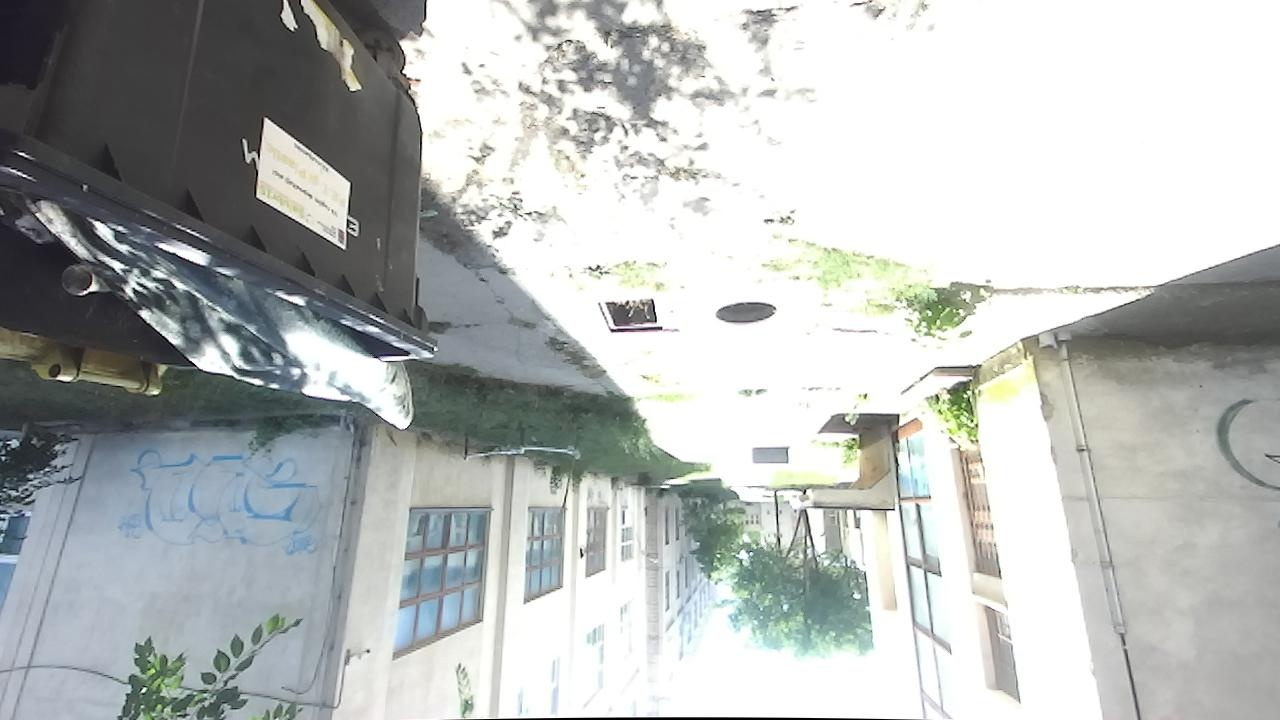drain: (596, 297, 664, 335), (713, 297, 778, 331)
